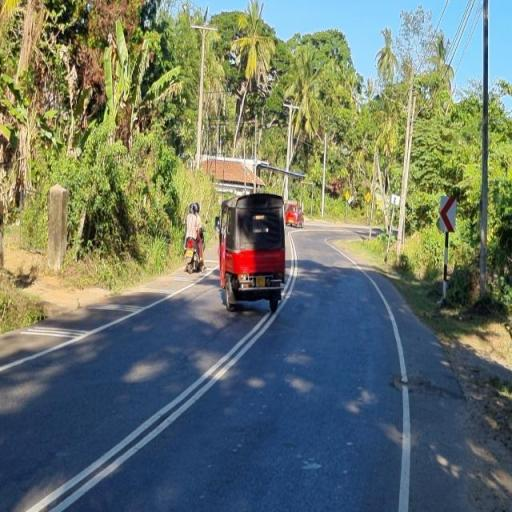double_white_line: (27, 226, 299, 511)
